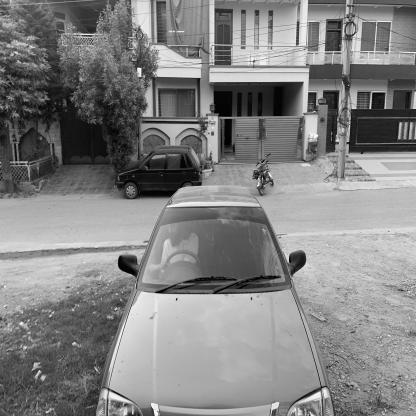no_seatbelt: (162, 219, 192, 274)
